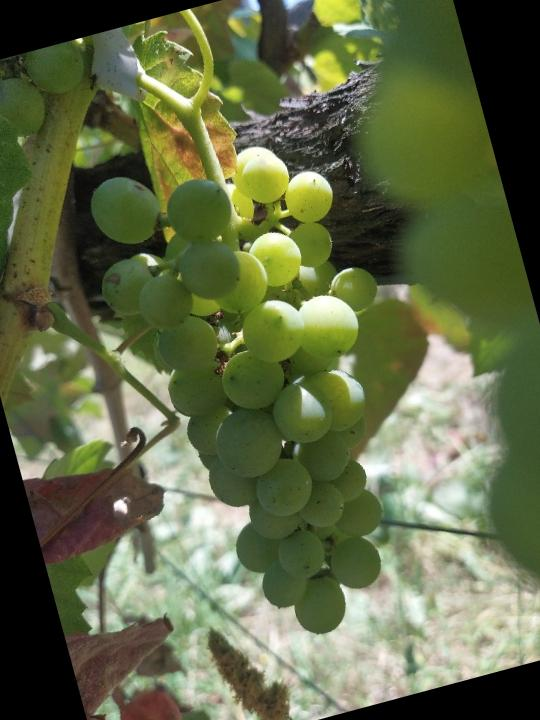grape: (70, 114, 463, 670)
